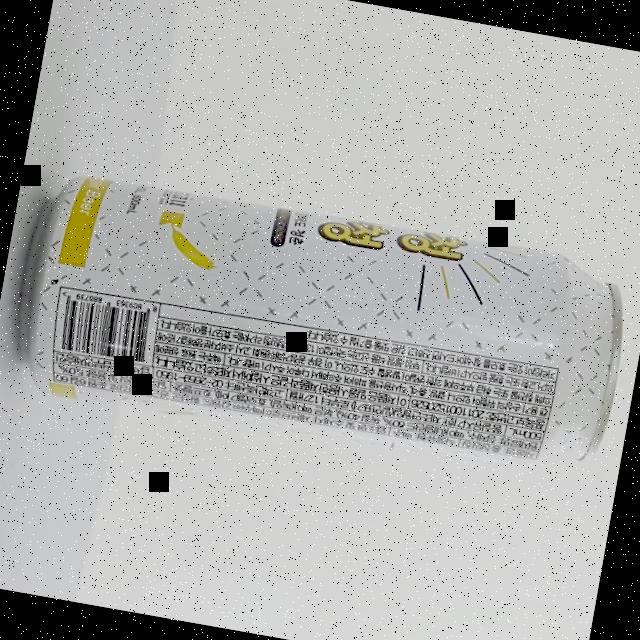can: (4, 162, 636, 492)
